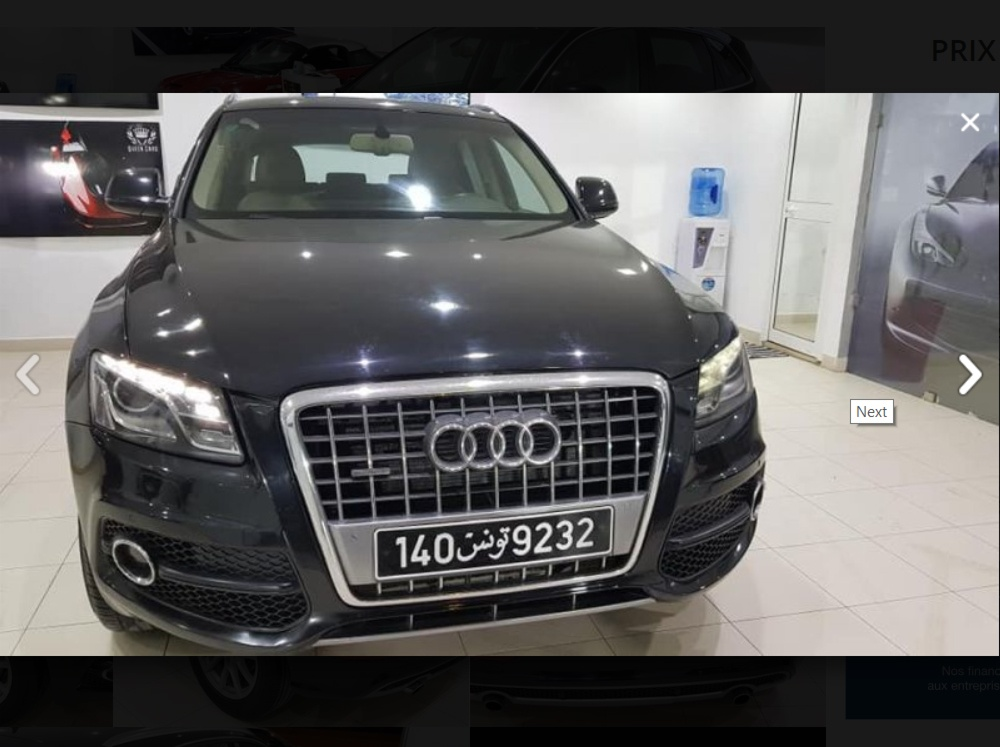LP: (371, 506, 614, 582)
